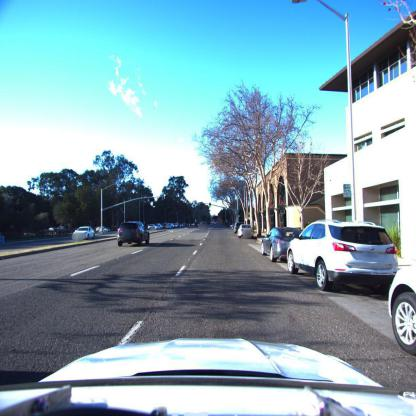car: (0, 337, 416, 416), (288, 219, 400, 296), (264, 227, 302, 261), (118, 222, 150, 248), (74, 227, 96, 241), (236, 224, 252, 238), (96, 226, 110, 233), (166, 223, 176, 229)
traffic light: (208, 202, 212, 208), (183, 200, 185, 204)
